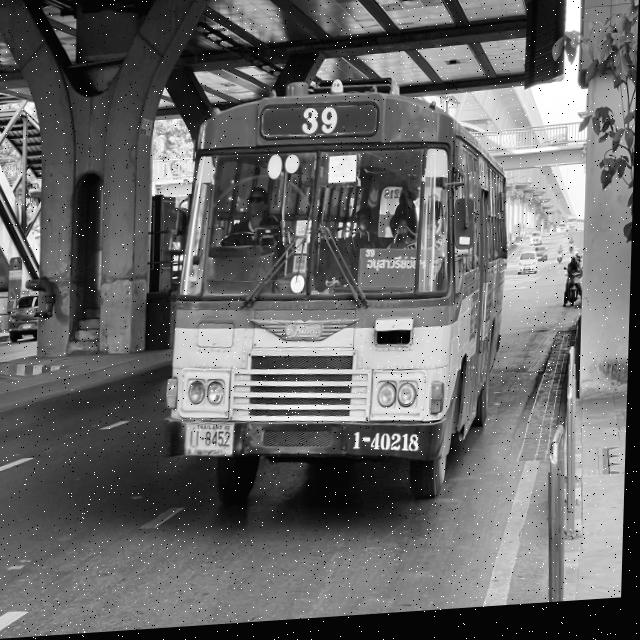BMTA-bus: (166, 75, 514, 535)
Bus-Line-Number: (259, 103, 383, 151)
Destination-Sign-Normal: (359, 247, 434, 301)
